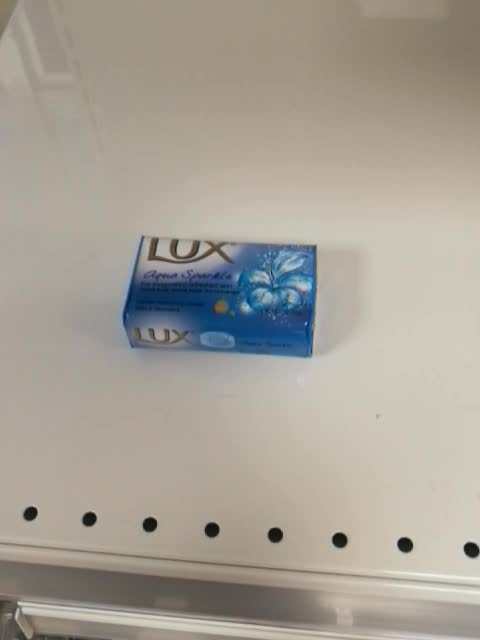soap: (119, 233, 318, 359)
